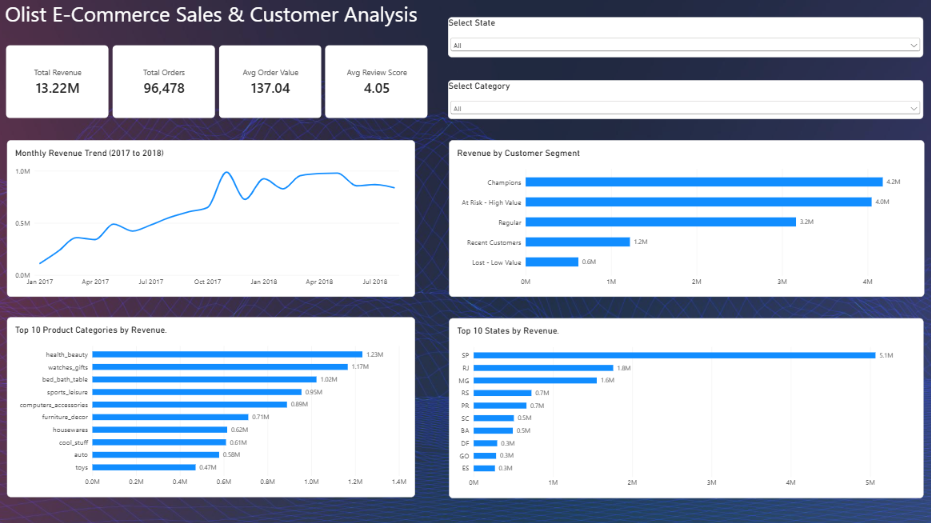

Layout of this report page (visuals, bound fields, positions):
{"tool":"powerbi","page":{"name":"Page 1","canvas":[1920,1080],"ordinal":0},"visuals":[{"type":"textbox","box":[10,290,280,280],"z":0},{"type":"textbox","box":[10,580,280,280],"z":1000},{"type":"textbox","box":[10,0,868,76],"z":2000},{"type":"cardVisual","fields":{"Data":["dashboard_data.Total Revenue","dashboard_data.Total Orders Display","dashboard_data.Avg Order Value","dashboard_data.Avg Review Score"]},"box":[12.5,95,868,150],"z":3000},{"type":"lineChart","title":"Monthly Revenue Trend (2017 to 2018)","fields":{"Category":["dashboard_data.order_month"],"Y":["dashboard_data.Total Revenue"]},"box":[15,290,840,322.5],"z":4000},{"type":"clusteredBarChart","title":"Top 10 Product Categories by Revenue.","fields":{"Category":["dashboard_data.category"],"Y":["dashboard_data.Total Revenue"]},"box":[15,655,840,370],"z":5000},{"type":"clusteredBarChart","title":"Revenue by Customer Segment","fields":{"Category":["rfm_segaments.segment"],"Y":["Sum(rfm_segaments.monetary)"]},"box":[924,290,978,322],"z":6000},{"type":"clusteredBarChart","title":"Top 10 States by Revenue.","fields":{"Category":["dashboard_data.customer_state"],"Y":["dashboard_data.Total Revenue"]},"box":[923.3,656.7,976.7,370],"z":7000},{"type":"slicer","title":"Select State","fields":{"Values":["dashboard_data.customer_state"]},"box":[922,38,978,82],"z":8000},{"type":"slicer","title":"Select Category","fields":{"Values":["dashboard_data.category"]},"box":[922,166,978,80],"z":9000}]}

Visuals, with their boxes in screenshot pixels (x1, y1, x2, y2), scaled from the page's 1920x1080 canvas onto the 931x523 screenshot:
textbox: 5,140,141,276
textbox: 5,281,141,416
textbox: 5,0,426,37
cardVisual - dashboard_data.Total Revenue x dashboard_data.Total Orders Display: 6,46,427,119
"Monthly Revenue Trend (2017 to 2018)" lineChart: 7,140,415,297
"Top 10 Product Categories by Revenue." clusteredBarChart: 7,317,415,496
"Revenue by Customer Segment" clusteredBarChart: 448,140,922,296
"Top 10 States by Revenue." clusteredBarChart: 448,318,921,497
"Select State" slicer: 447,18,921,58
"Select Category" slicer: 447,80,921,119
